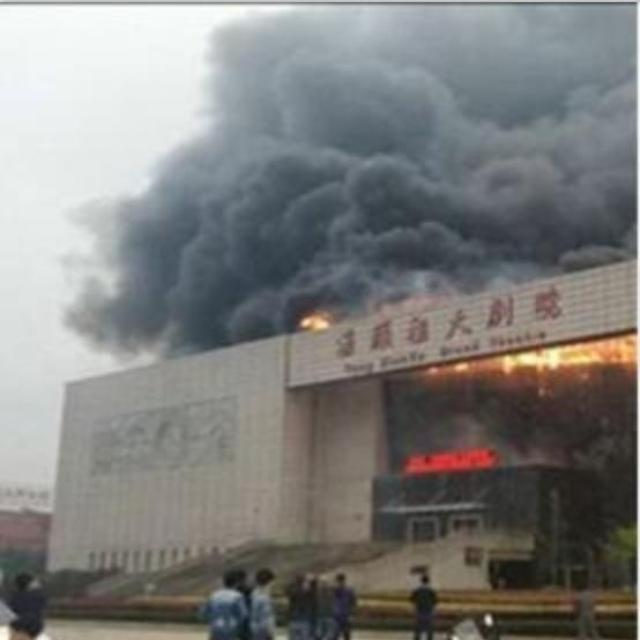Fire: (422, 332, 638, 374), (296, 313, 330, 331)
Smoke: (53, 4, 638, 360)
